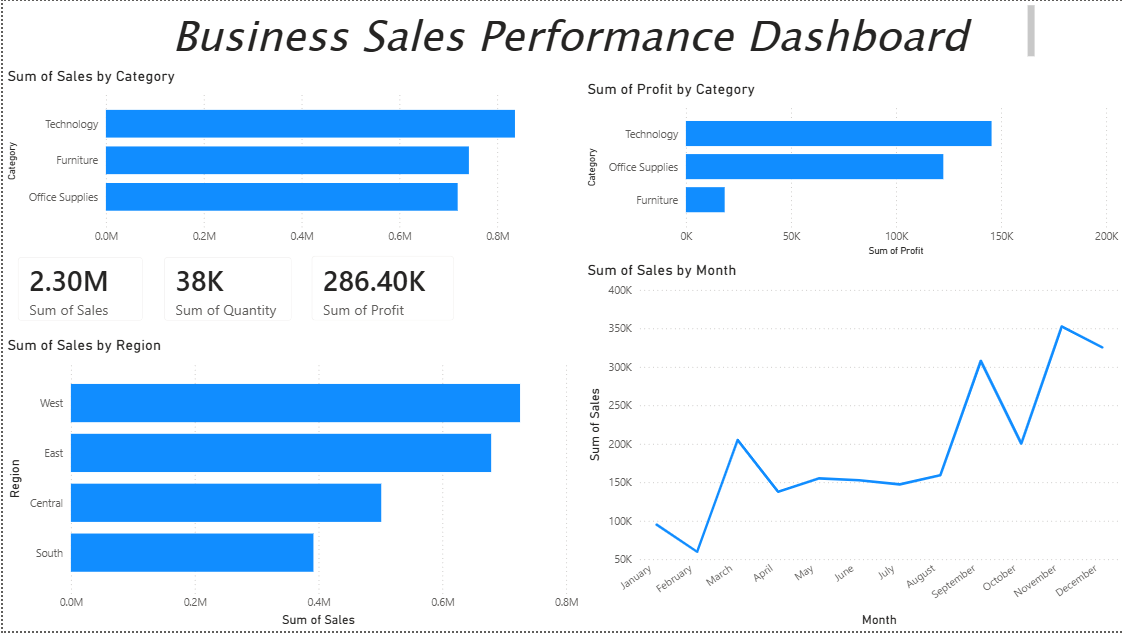

The page's visual inventory and layout, read from the dashboard file:
{"tool":"powerbi","page":{"name":"Page 1","canvas":[1280,720],"ordinal":0},"visuals":[{"type":"clusteredBarChart","fields":{"Category":["SampleSuperstore.Category"],"Y":["Sum(SampleSuperstore.Sales)"]},"box":[0,75.7,640,221.4],"z":0},{"type":"clusteredBarChart","fields":{"Category":["SampleSuperstore.Region"],"Y":["Sum(SampleSuperstore.Sales)"]},"box":[0,382.9,662.9,337.1],"z":1},{"type":"lineChart","fields":{"Y":["Sum(SampleSuperstore.Sales)"],"Category":["SampleSuperstore.Month.Variation.Date Hierarchy.Month"]},"box":[662.9,297.1,617.1,422.9],"z":2},{"type":"cardVisual","fields":{"Data":["Sum(SampleSuperstore.Sales)"]},"box":[0,275.7,177.1,107.1],"z":3},{"type":"cardVisual","fields":{"Data":["Sum(SampleSuperstore.Quantity)"]},"box":[167.1,275.7,180,107.1],"z":4},{"type":"cardVisual","fields":{"Data":["Sum(SampleSuperstore.Profit)"]},"box":[335.7,274.3,197.1,108.6],"z":5},{"type":"textbox","box":[188.6,0,995.7,75.7],"z":7},{"type":"clusteredBarChart","fields":{"Category":["SampleSuperstore.Category"],"Y":["Sum(SampleSuperstore.Profit)"]},"box":[662.9,90,617.1,207.1],"z":8}]}

Visuals, with their boxes in screenshot pixels (x1, y1, x2, y2), scaled from the page's 1280x720 canvas onto the 1123x635 screenshot:
clusteredBarChart - SampleSuperstore.Category x Sum(SampleSuperstore.Sales): [0, 67, 562, 262]
clusteredBarChart - SampleSuperstore.Region x Sum(SampleSuperstore.Sales): [0, 338, 582, 634]
lineChart - Sum(SampleSuperstore.Sales) x SampleSuperstore.Month.Variation.Date Hierarchy.Month: [582, 262, 1122, 634]
cardVisual - Sum(SampleSuperstore.Sales): [0, 243, 155, 338]
cardVisual - Sum(SampleSuperstore.Quantity): [147, 243, 305, 338]
cardVisual - Sum(SampleSuperstore.Profit): [295, 242, 467, 338]
textbox: [165, 0, 1039, 67]
clusteredBarChart - SampleSuperstore.Category x Sum(SampleSuperstore.Profit): [582, 79, 1122, 262]
